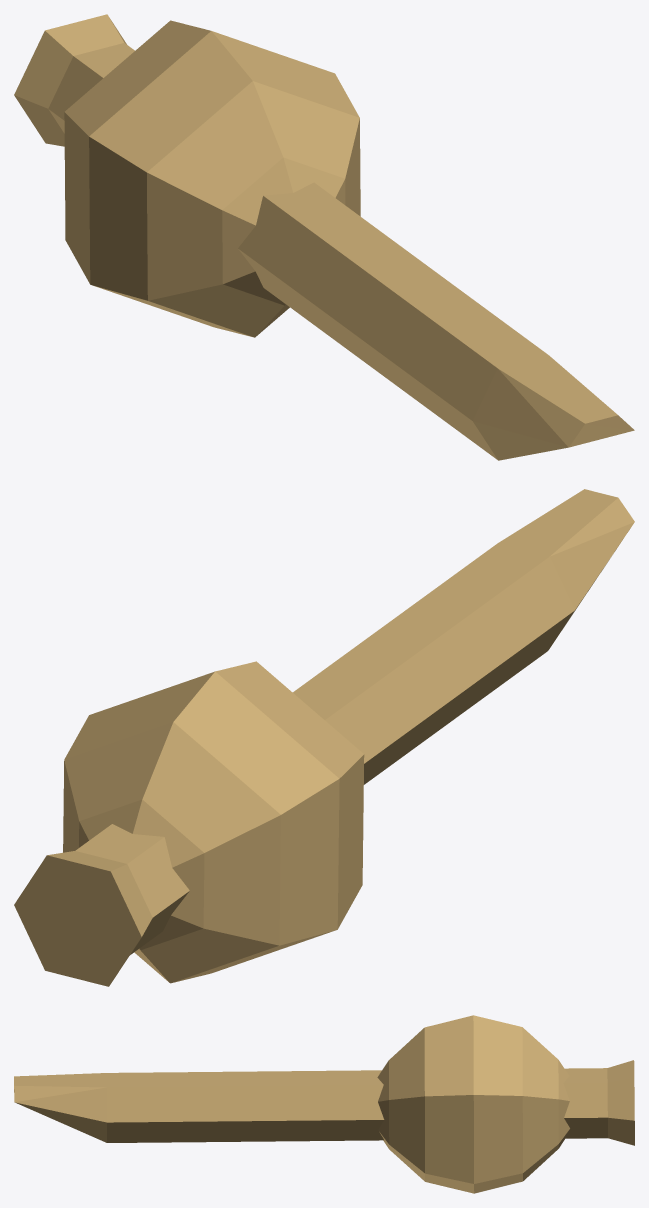
File: Pokeflute.obj
The picture shows the model from 3 angles, top to bottom: view 1: azimuth 30°, elevation 25°; view 2: azimuth 150°, elevation 25°; view 3: azimuth 270°, elevation 25°; orthographic projection. The views are drawn at different scales.
Parts seen in each view (by area): view 1: Pokeplute; view 2: Pokeplute; view 3: Pokeplute.
Part boxes in pixels (x1,y1,x2,y2): Pokeplute: (14,14,634,460); Pokeplute: (14,489,634,986); Pokeplute: (14,1015,634,1193).
Size of the model in its own units: 0.1722 by 0.1976 by 0.6267.
